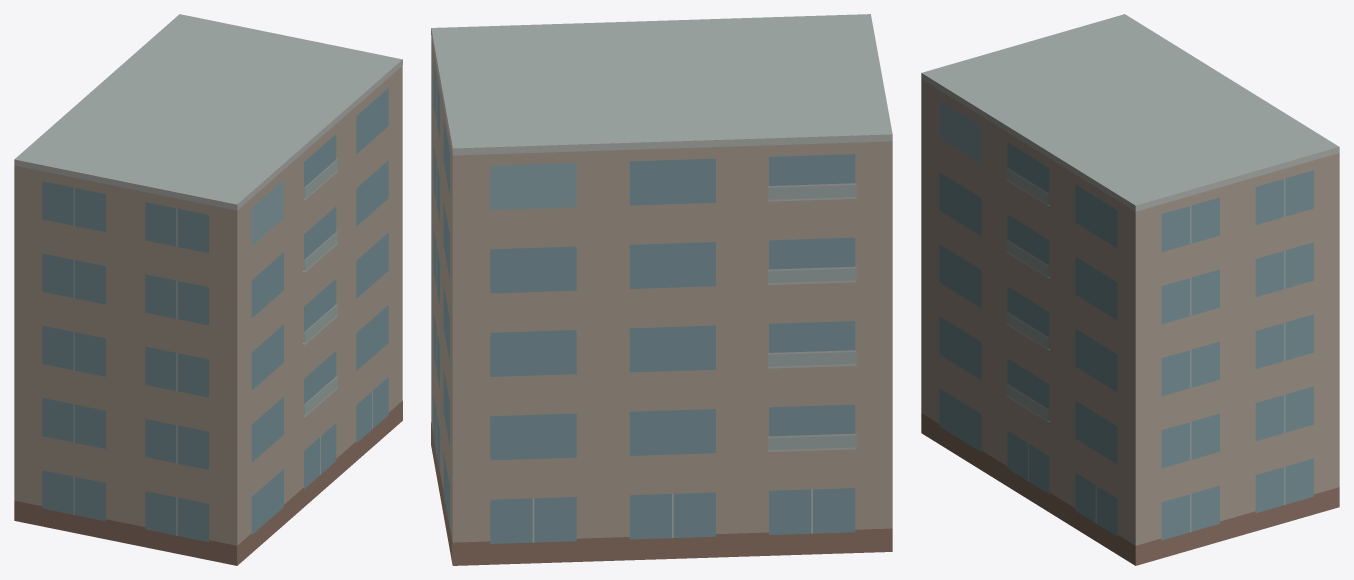
The model's file is survey-upis-32969224.glb.
3 renders of one model, left to right at view 1: azimuth 30°, elevation 25°; view 2: azimuth 150°, elevation 25°; view 3: azimuth 270°, elevation 25°, orthographic. The views are drawn at different scales.
Visible parts, largest first — view 1: survey-upis-32969224.tmp; view 2: survey-upis-32969224.tmp; view 3: survey-upis-32969224.tmp.
Part boxes in pixels (x1=…): survey-upis-32969224.tmp: x1=14, y1=14, x2=402, y2=565; survey-upis-32969224.tmp: x1=431, y1=14, x2=892, y2=565; survey-upis-32969224.tmp: x1=921, y1=14, x2=1339, y2=565.
Size of the model in its own units: 16.67 by 14.6 by 15.37.
